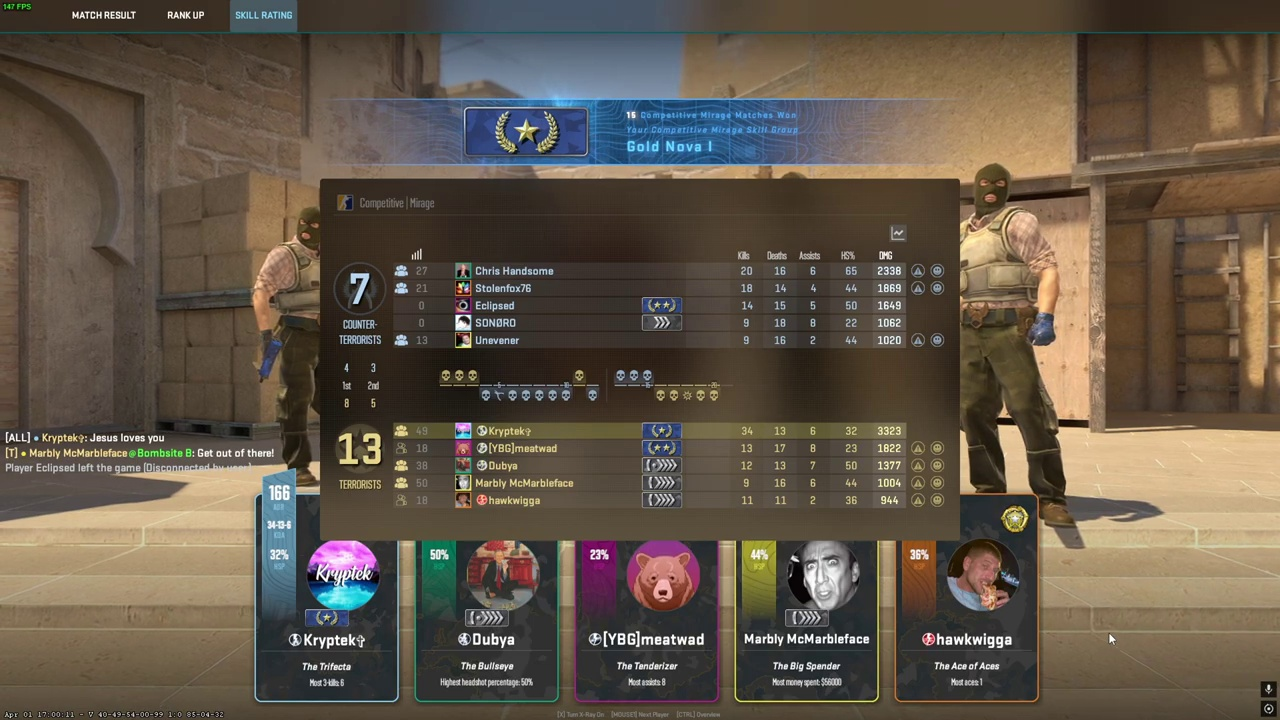Terrorist: (958, 163, 1063, 531), (259, 206, 323, 484)
